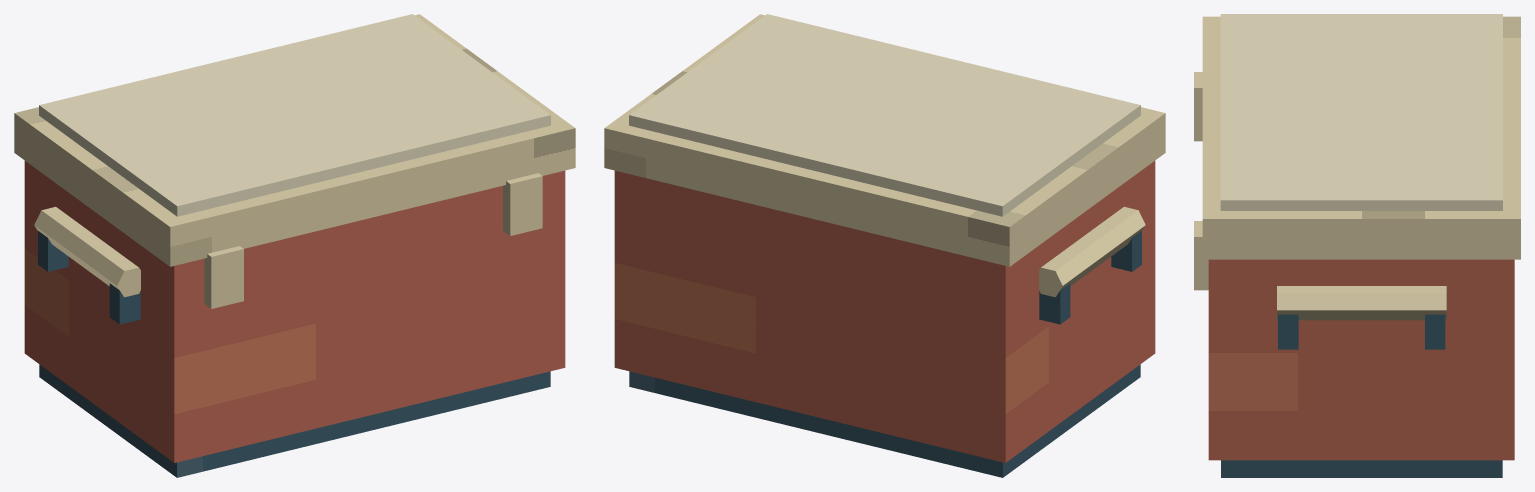
The model's file is cooler.glb.
3 views of the same model, side by side, from view 1: azimuth 30°, elevation 25°; view 2: azimuth 150°, elevation 25°; view 3: azimuth 270°, elevation 25° (orthographic). The views are drawn at different scales.
Parts seen in each view (by area): view 1: cooler; view 2: cooler; view 3: cooler.
Part boxes in pixels (box(x1,y1,x2,y2)): cooler: box(14, 14, 575, 477); cooler: box(604, 14, 1165, 477); cooler: box(1194, 14, 1520, 477).
Bounding box in the file's own units: 0.634 × 0.3755 × 0.4005.
1 material, 1 textured.
